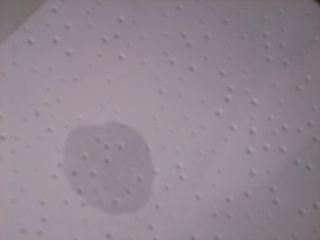Water_detected: (68, 130, 150, 209)
